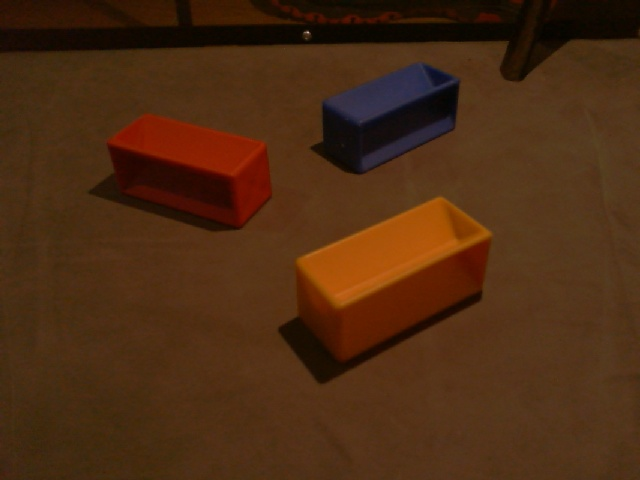BlueSample: (320, 60, 461, 173)
RedSample: (107, 112, 275, 231)
YellowSample: (291, 193, 492, 368)
